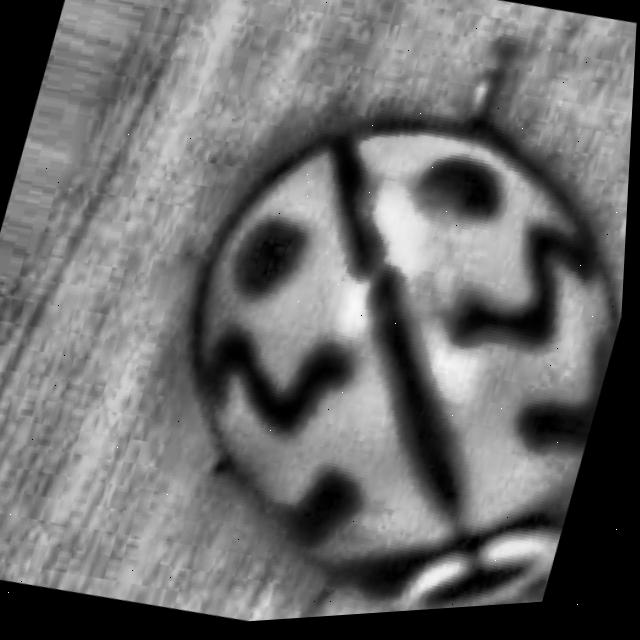Asian-Lady-beetle: (64, 0, 639, 635)
